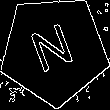N_S: (27, 20, 81, 81)
